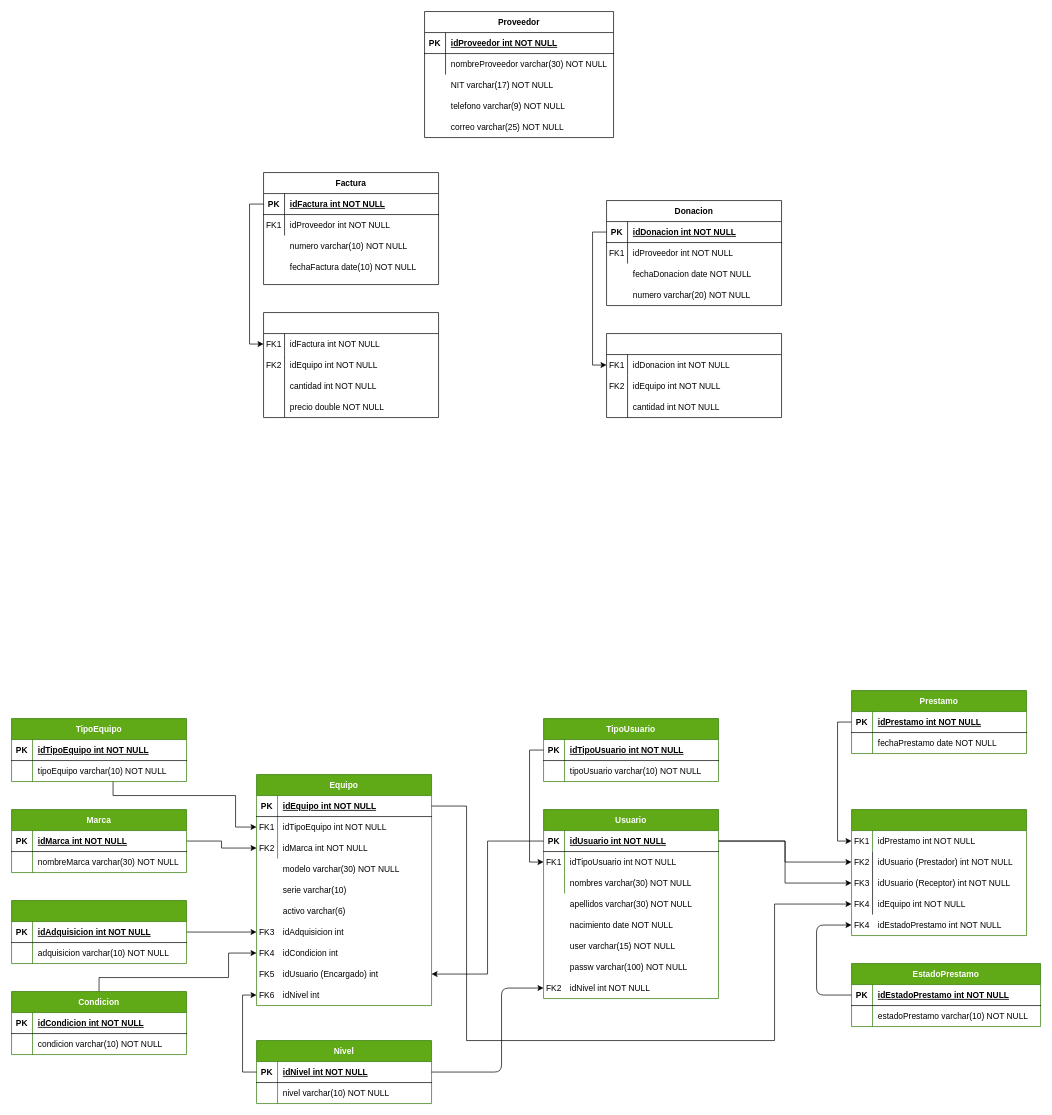
Some shapes in this 1052 by 1115 pixel diagram are drawn without their labels. The shapes that lost their labels are listed below. From the top down, each one's box as (x1, y1, x2, y2) in pixels, then its label:
(263, 312, 439, 418): DetalleFactura
(606, 333, 782, 418): DetalleDonacion
(851, 809, 1027, 936): DetallePrestamo
(11, 900, 187, 964): AdquisicionEquipo
